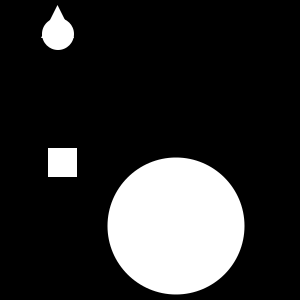circle: (48, 148, 77, 177)
rectangle: (108, 157, 244, 294), (42, 18, 74, 50)
triangle: (41, 5, 74, 38)
